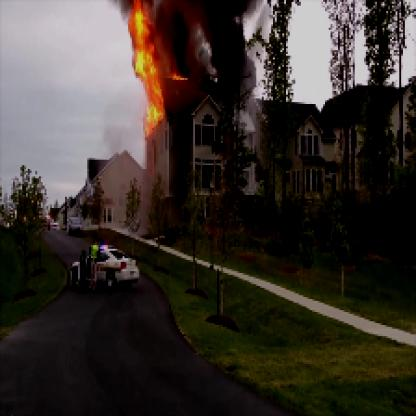Fire: (124, 2, 186, 130)
Smoke: (162, 2, 252, 82)
